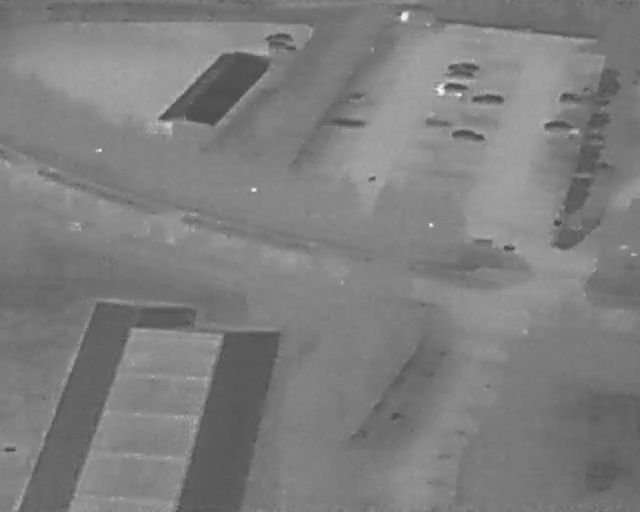Car: (544, 120, 579, 137), (435, 82, 469, 97), (451, 128, 485, 142), (264, 42, 297, 55), (443, 71, 477, 83), (473, 94, 505, 106), (265, 32, 294, 44), (559, 93, 585, 106), (448, 63, 481, 73)
